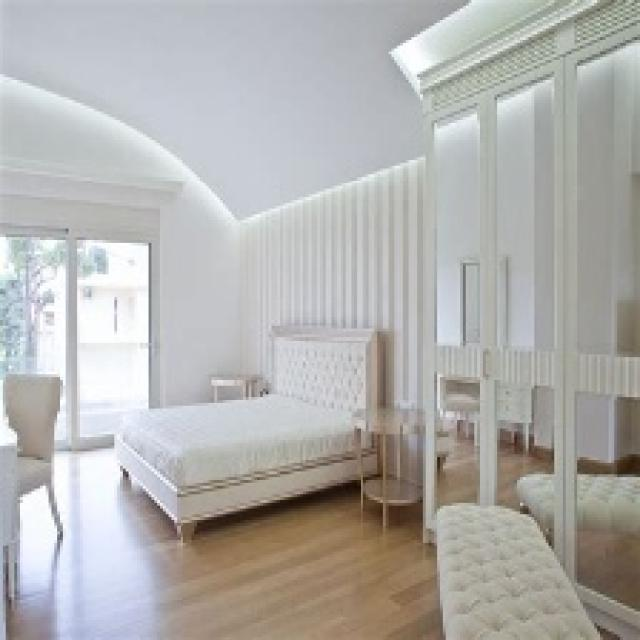Bed: (111, 323, 380, 543)
